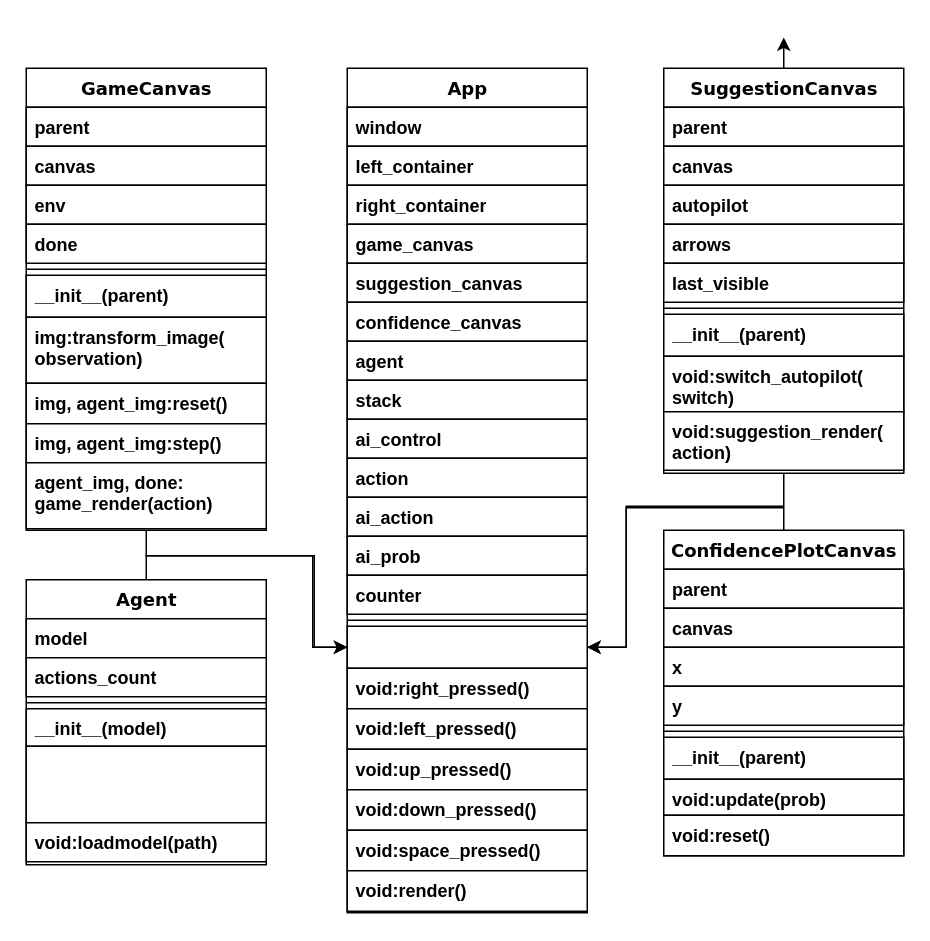
Image size: 930x941. Some labels were removed from this diagram. The centre of each missing label's shape, as x and y in pixels:
"__init__()" goes at [466,646].
"action, probabilty: choose_action( observation)" goes at [145,784].
